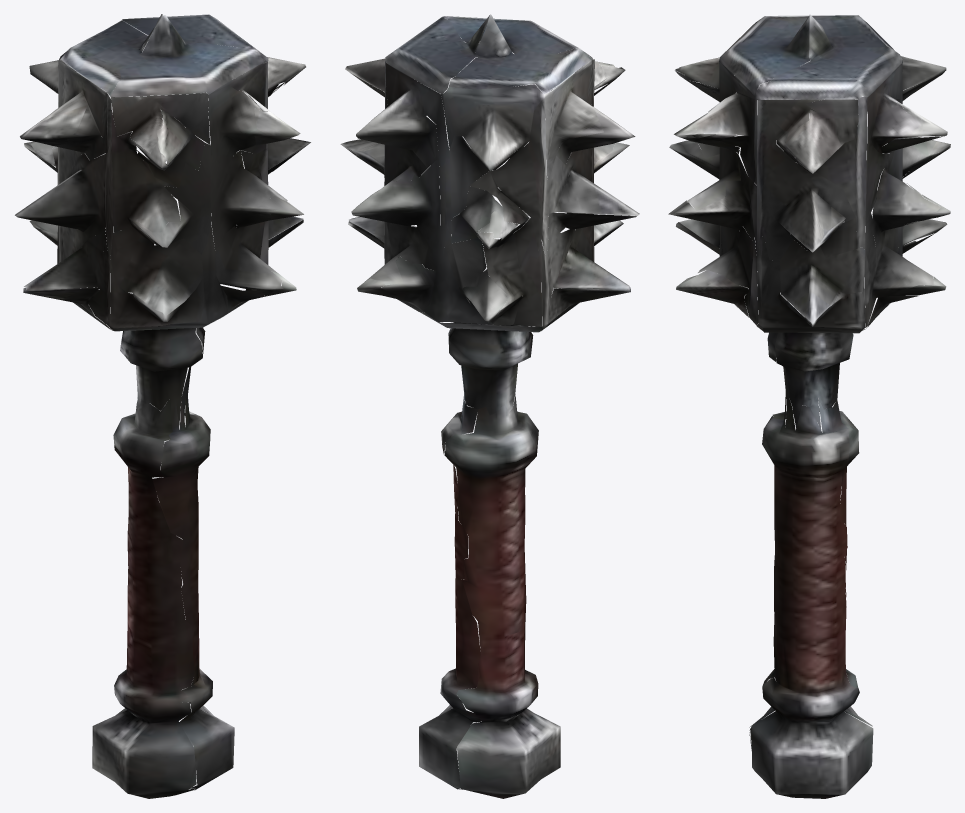
File: studded_mace.glb
The picture shows the model from 3 angles, left to right: view 1: azimuth 30°, elevation 25°; view 2: azimuth 150°, elevation 25°; view 3: azimuth 270°, elevation 25°; orthographic projection.
Visible parts, largest first — view 1: studded_mace; view 2: studded_mace; view 3: studded_mace.
Part boxes in pixels (x1=…): studded_mace: x1=15, y1=14, x2=310, y2=798; studded_mace: x1=340, y1=14, x2=639, y2=798; studded_mace: x1=668, y1=14, x2=950, y2=798.
Size of the model in its own units: 0.2995 by 0.7448 by 0.2465.
Materials: 1 (1 with a texture image).
